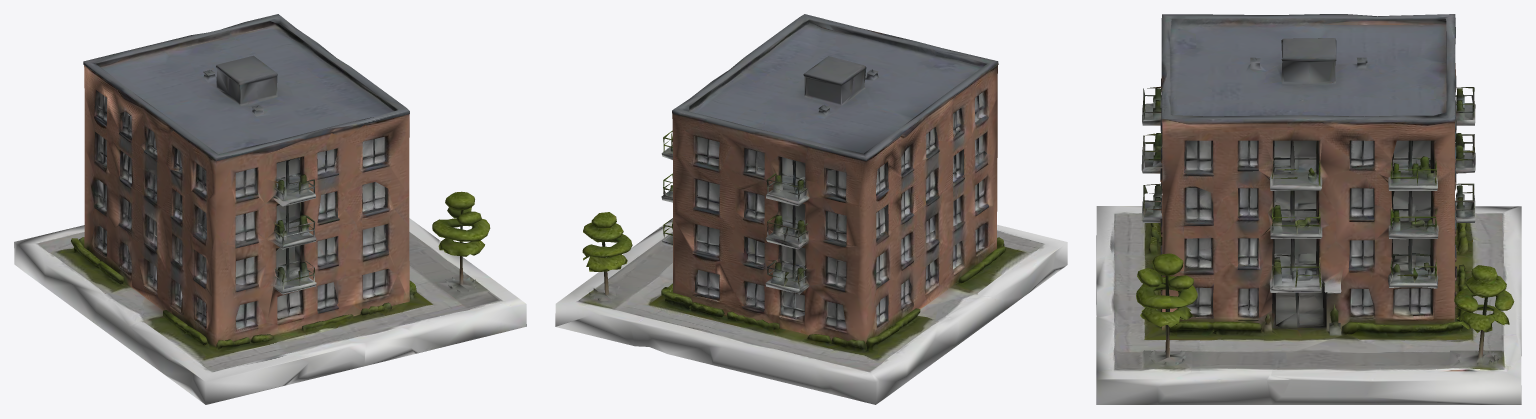
Rendered from home-flat2-hf.glb.
3 renders of one model, left to right at view 1: azimuth 30°, elevation 25°; view 2: azimuth 150°, elevation 25°; view 3: azimuth 270°, elevation 25°, orthographic. The views are drawn at different scales.
Visible parts, largest first — view 1: tripo_node_5e4de4ba-479a-4f5b-95e7-e8a6595a9814; view 2: tripo_node_5e4de4ba-479a-4f5b-95e7-e8a6595a9814; view 3: tripo_node_5e4de4ba-479a-4f5b-95e7-e8a6595a9814.
Boxes of the visible parts, x1=… form: tripo_node_5e4de4ba-479a-4f5b-95e7-e8a6595a9814: x1=14, y1=14, x2=526, y2=404; tripo_node_5e4de4ba-479a-4f5b-95e7-e8a6595a9814: x1=555, y1=14, x2=1067, y2=404; tripo_node_5e4de4ba-479a-4f5b-95e7-e8a6595a9814: x1=1096, y1=14, x2=1521, y2=404.
Bounding box in the file's own units: 0.9663 × 0.6689 × 0.9999.
1 material, 1 textured.
